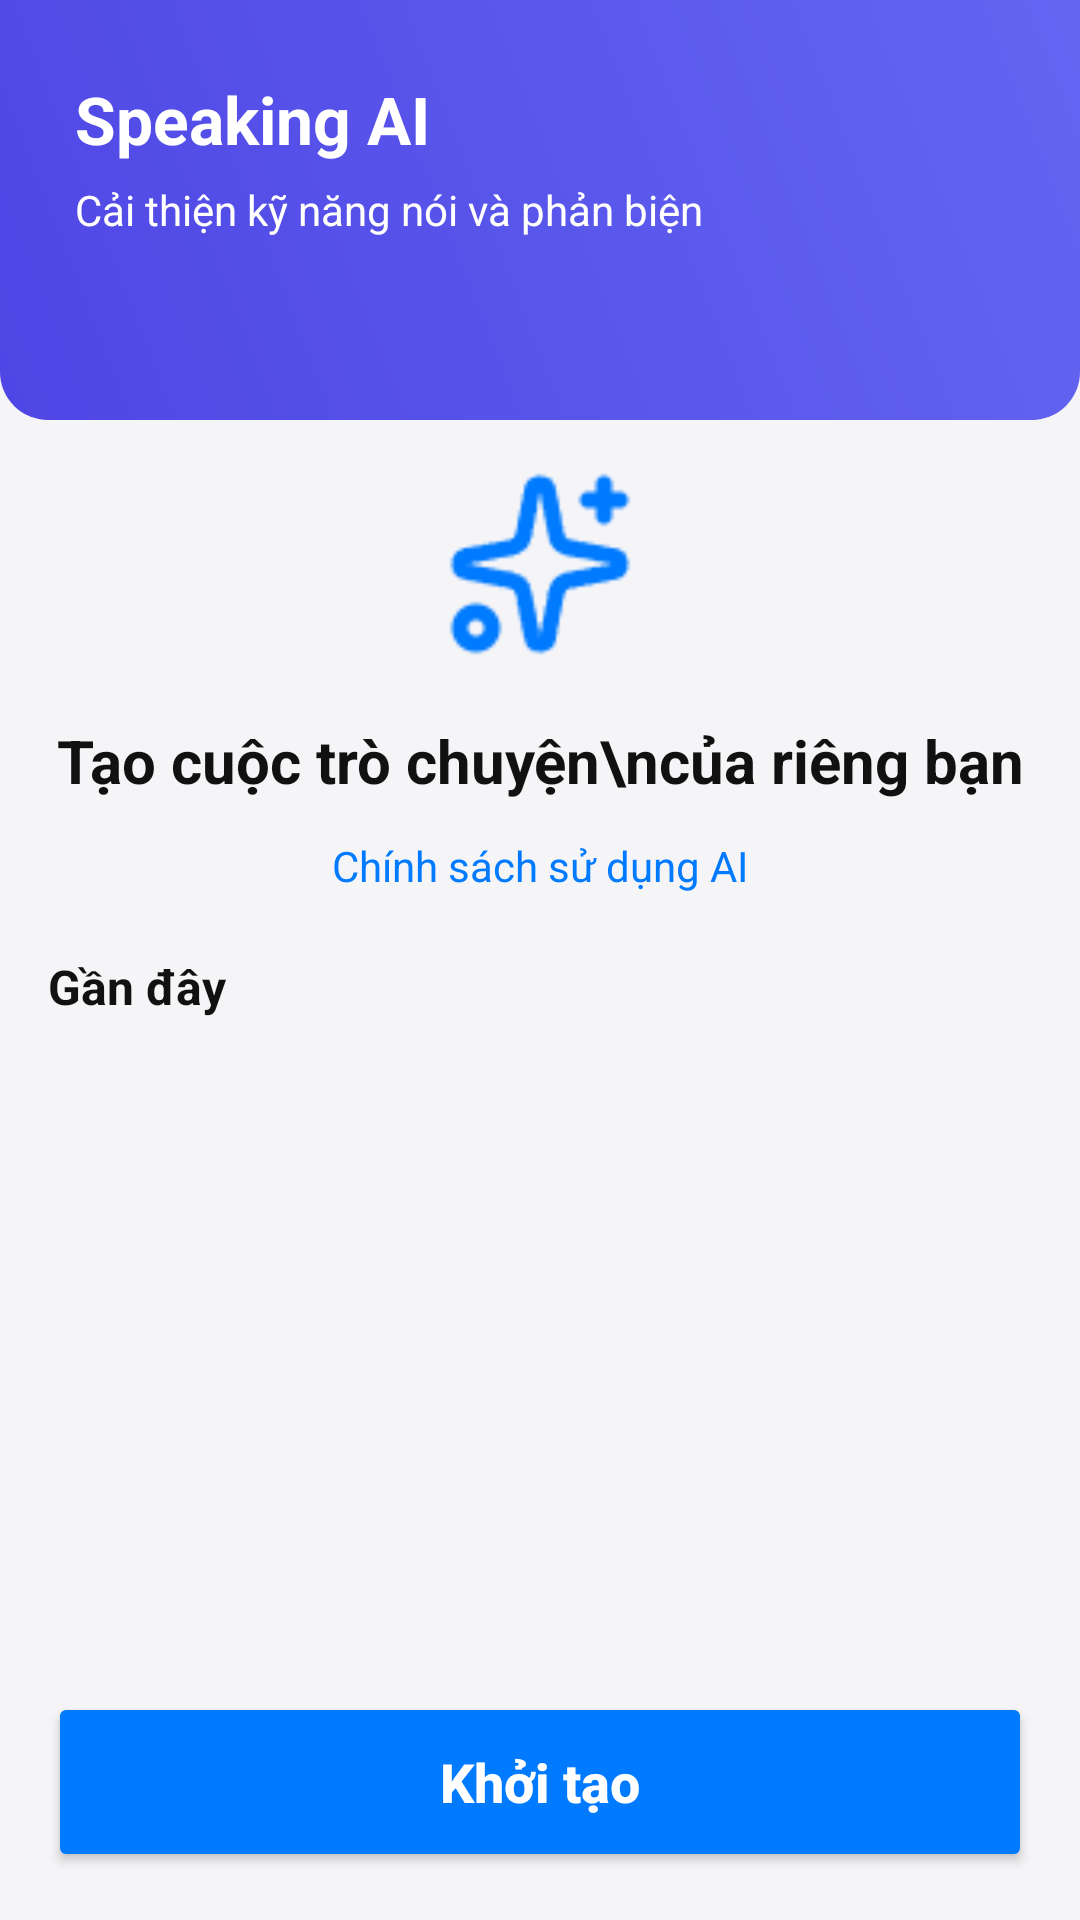

Where to tap for icons on this 1080 x 1920 app screen, as point (x, y):
sparkles: point (540, 564)
